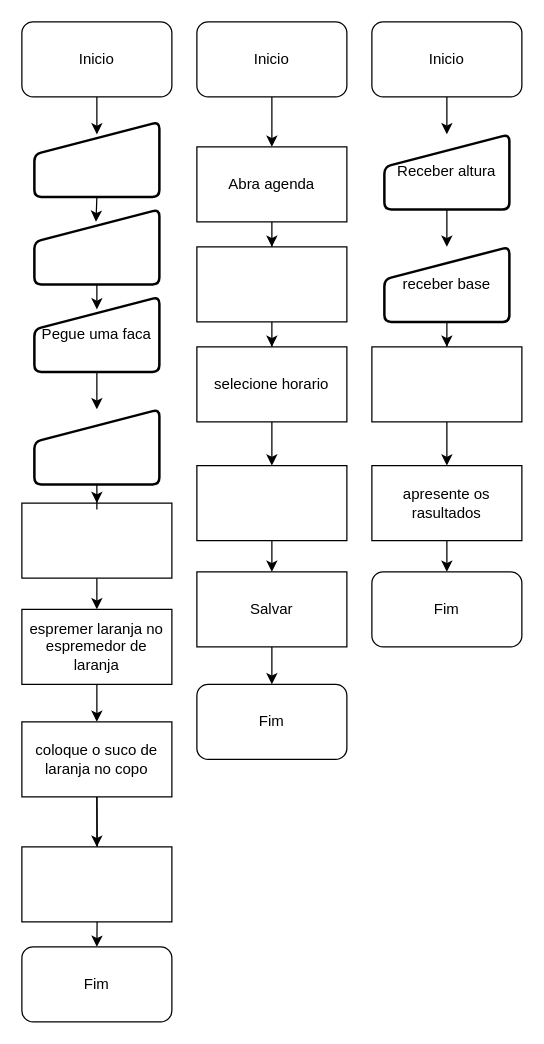
Some shapes in this 544 by 1044 pixel diagram are drawn without their labels. Each missing label, with the box of its shape:
beba o suco: (21, 846, 172, 922)
Calcular (base*altura)/2: (371, 346, 522, 422)
Coloque nome: (196, 464, 347, 541)
Corte laranja no meio com a faca: (21, 502, 172, 578)
Pegue N laranja: (32, 120, 160, 198)
Pegue o espremedor de laranja: (32, 408, 160, 485)
Pegue tabua de cortar: (32, 208, 160, 285)
Selecione data: (196, 246, 347, 322)
